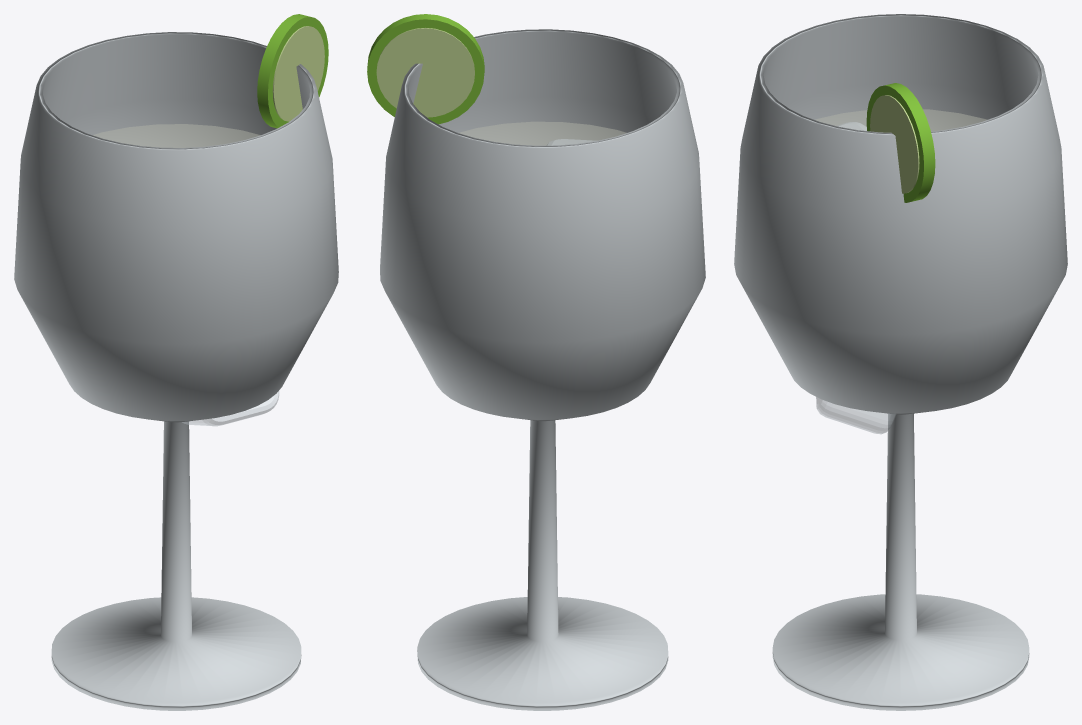
Rendered from cocktail-electric-spirit-co.glb.
3 renders of one model, left to right at view 1: azimuth 30°, elevation 25°; view 2: azimuth 150°, elevation 25°; view 3: azimuth 270°, elevation 25°, orthographic. The views are drawn at different scales.
Bounding box in the file's own units: 0.1124 × 0.2154 × 0.104.
